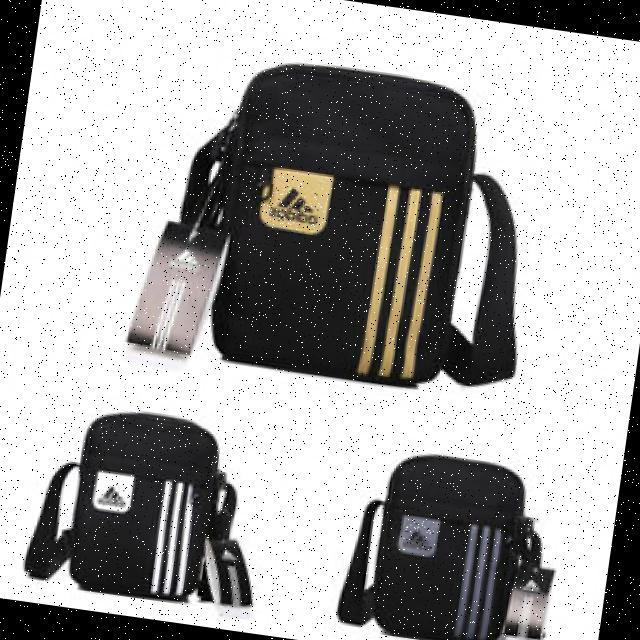Adidas: (266, 184, 323, 229), (164, 243, 209, 276), (94, 481, 132, 515), (402, 518, 435, 551)
